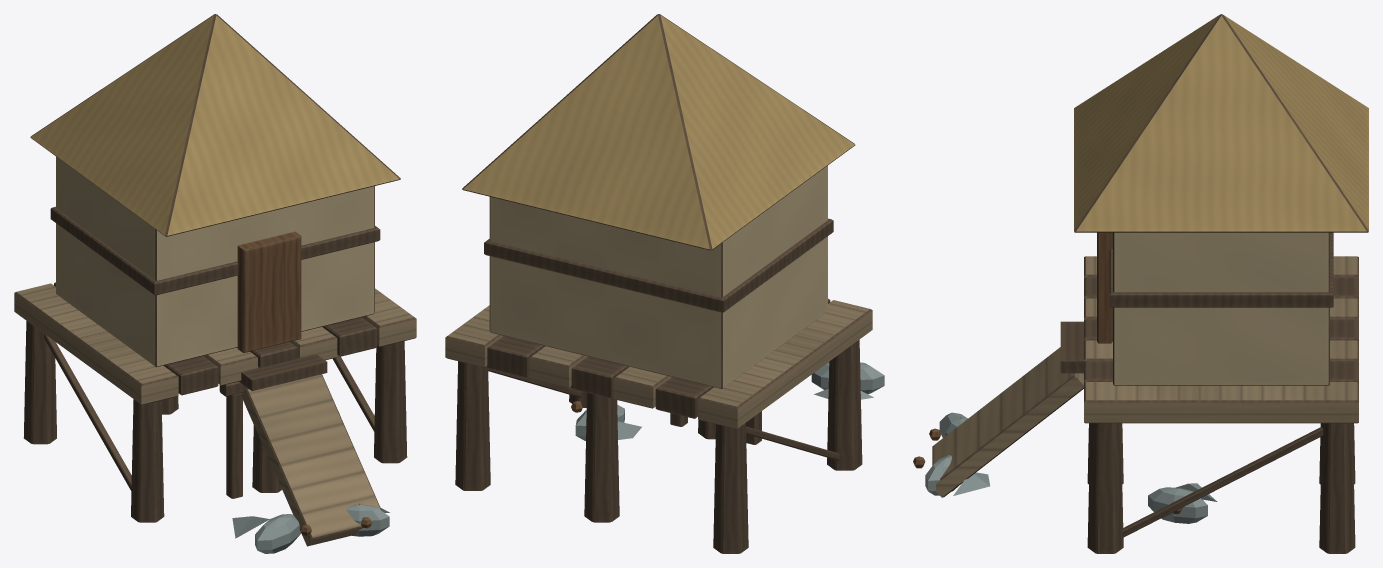
File: stilted-hut.glb
The picture shows the model from 3 angles, left to right: view 1: azimuth 30°, elevation 25°; view 2: azimuth 150°, elevation 25°; view 3: azimuth 270°, elevation 25°; orthographic projection. The views are drawn at different scales.
Parts seen in each view (by area): view 1: stilted-hut; view 2: stilted-hut; view 3: stilted-hut.
Boxes of the visible parts, x1,y1,x2,y2 form: stilted-hut: (14, 14, 416, 553); stilted-hut: (445, 14, 884, 553); stilted-hut: (913, 14, 1368, 553).
Bounding box in the file's own units: 0.476 × 0.715 × 0.6311.
Materials: 1 (1 with a texture image).
